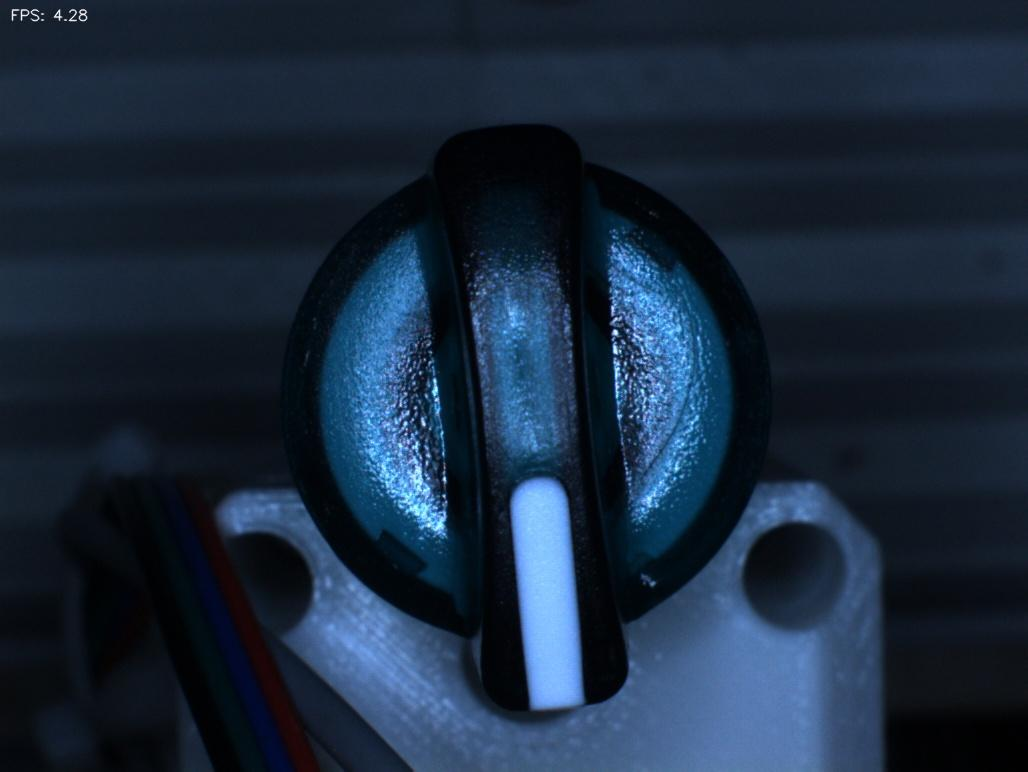Choc: (606, 530, 690, 621)
